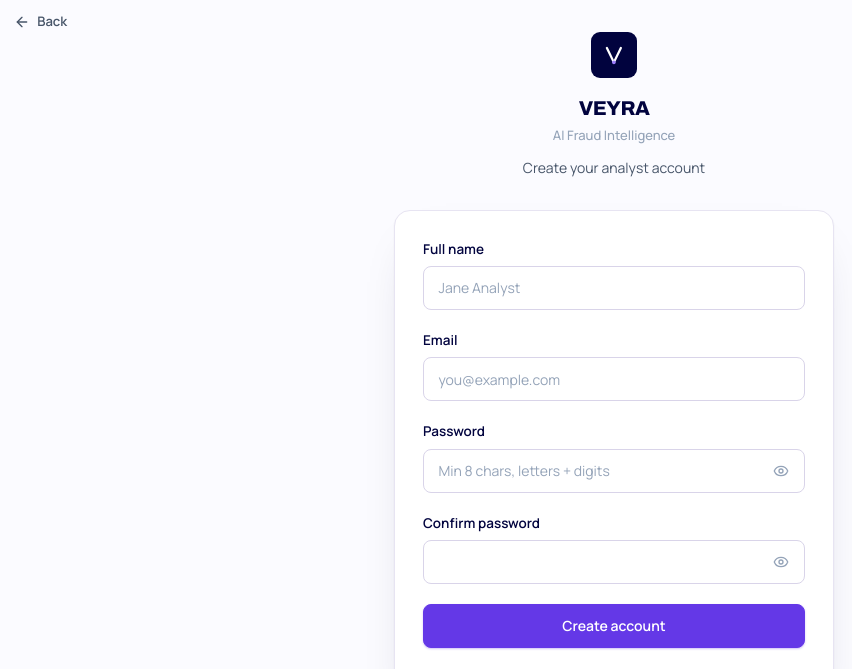
Register page › surfaces the duplicate-email server error
Type "New Analyst" into the field labelled "Full name" at (614, 288), box [423,266,805,310]
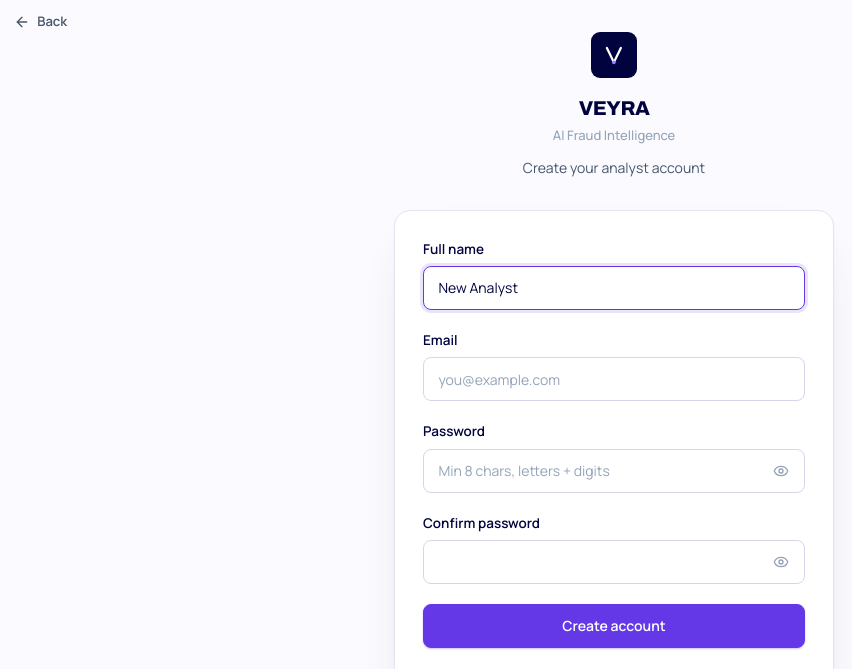
Type "new@example.com" into the field labelled "Email" at (614, 379), box [423,357,805,401]
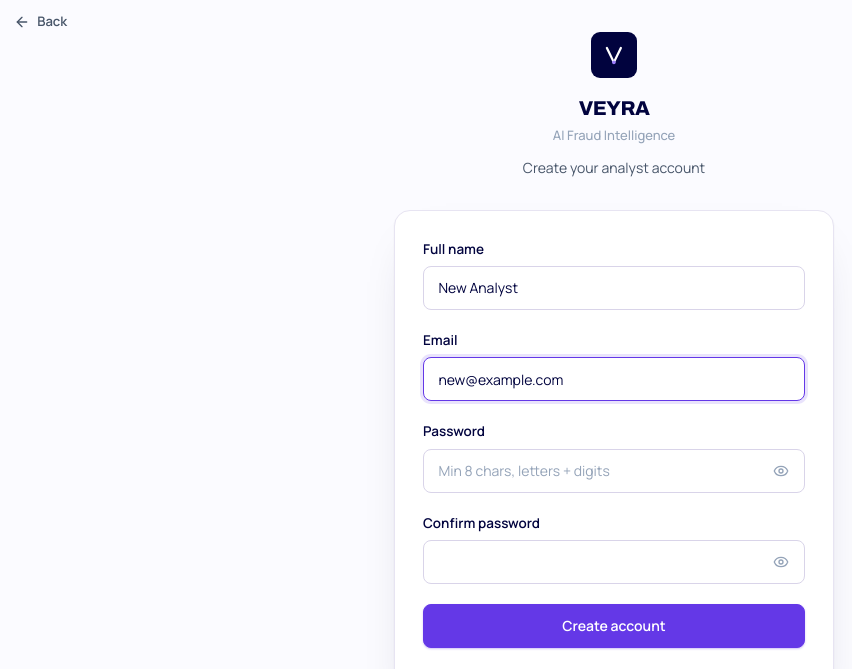
Type "FraudPass123" into the password field labelled "Password" at (614, 471), box [423,449,805,493]
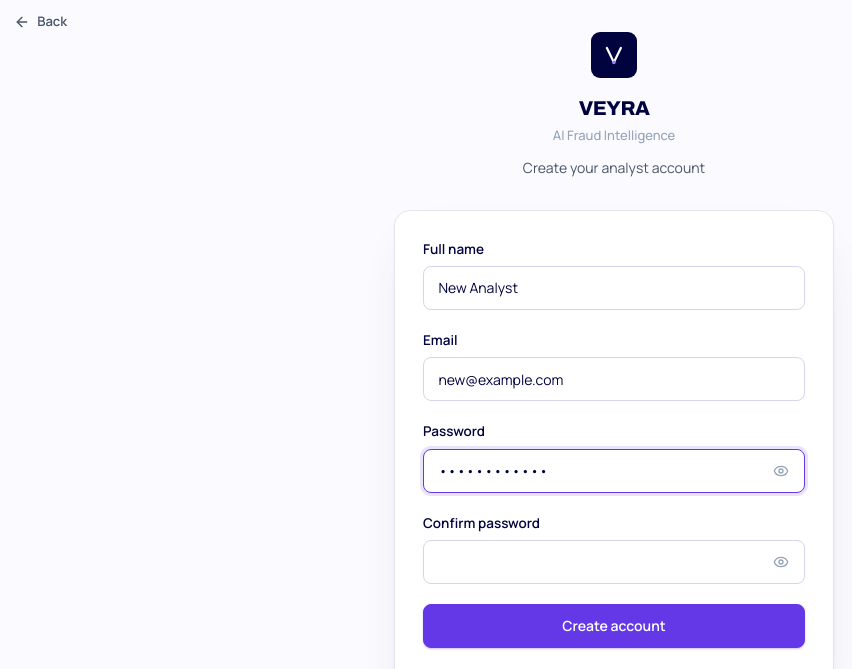
Type "FraudPass123" into the password field labelled "Confirm password" at (614, 562), box [423,540,805,584]
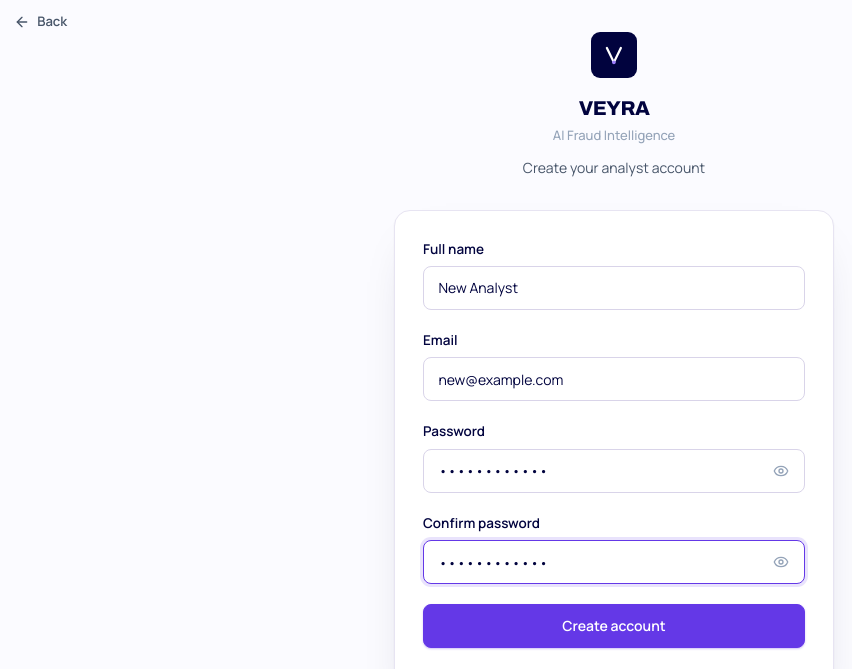
Click the button "Create account" at (614, 626), box [423,604,805,648]
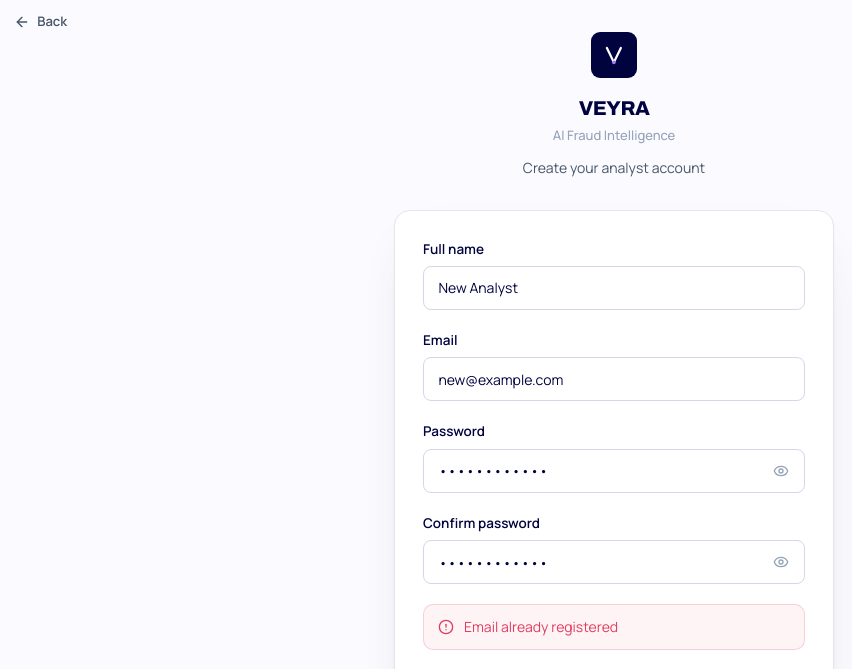
expect the text "Email already registered" is shown: met, box [423,604,805,650]
